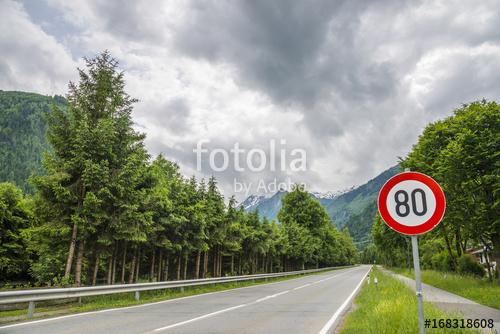Speed_limit_80km: (377, 172, 446, 234)
